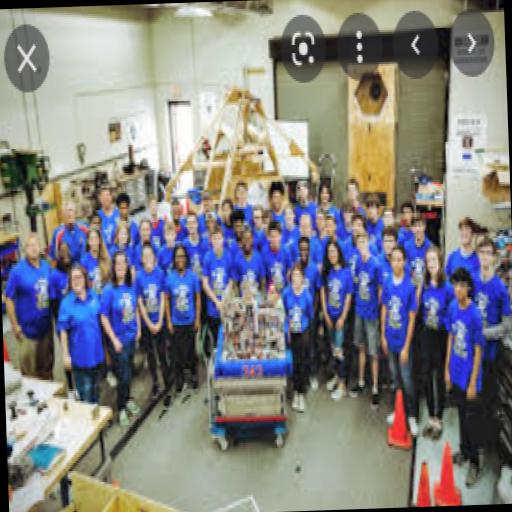robot: (206, 275, 294, 384)
